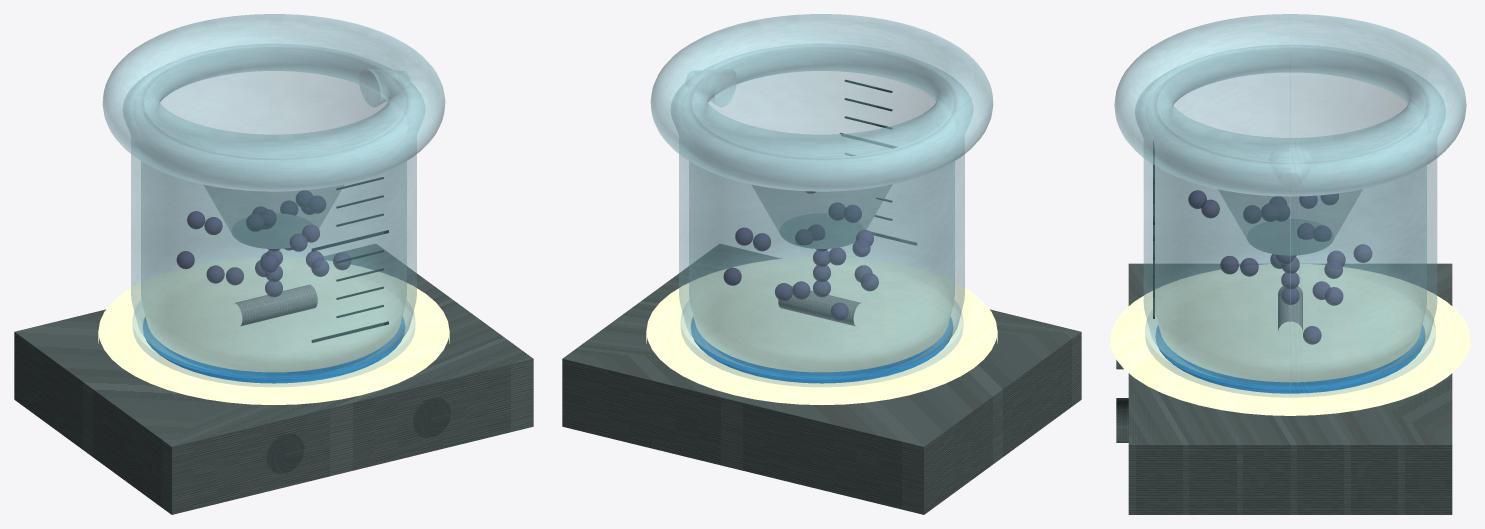
The model's file is alat-20.glb.
3 renders of one model, left to right at view 1: azimuth 30°, elevation 25°; view 2: azimuth 150°, elevation 25°; view 3: azimuth 270°, elevation 25°, orthographic. The views are drawn at different scales.
Parts seen in each view (by area): view 1: beaker-4, box-0, torus-6, hotplateGlow-1, vortexCore-46, cylinder-5, liquidSurface-18, stirbar-19, cone-7, cylinder-2, cylinder-3; view 2: beaker-4, box-0, torus-6, hotplateGlow-1, vortexCore-46, cylinder-5, liquidSurface-18, stirbar-19, cone-7; view 3: beaker-4, torus-6, box-0, hotplateGlow-1, vortexCore-46, cylinder-5, liquidSurface-18, cone-7, stirbar-19, cylinder-3.
Boxes of the visible parts, x1,y1,x2,y2 form: beaker-4: [123, 44, 424, 376]; box-0: [14, 244, 533, 514]; torus-6: [102, 14, 445, 191]; hotplateGlow-1: [98, 257, 449, 404]; vortexCore-46: [204, 185, 343, 248]; cylinder-5: [133, 301, 414, 386]; liquidSurface-18: [143, 318, 404, 383]; stirbar-19: [235, 284, 317, 325]; cone-7: [359, 69, 409, 107]; cylinder-2: [266, 432, 304, 473]; cylinder-3: [413, 397, 450, 437]; beaker-4: [671, 44, 972, 376]; box-0: [562, 244, 1081, 514]; torus-6: [650, 14, 993, 191]; hotplateGlow-1: [646, 257, 997, 404]; vortexCore-46: [752, 185, 891, 248]; cylinder-5: [681, 301, 962, 386]; liquidSurface-18: [691, 318, 952, 383]; stirbar-19: [778, 286, 860, 325]; cone-7: [686, 69, 736, 107]; beaker-4: [1135, 44, 1445, 386]; torus-6: [1114, 14, 1466, 196]; box-0: [1128, 263, 1452, 514]; hotplateGlow-1: [1110, 264, 1470, 415]; vortexCore-46: [1218, 189, 1362, 255]; cylinder-5: [1145, 309, 1435, 397]; liquidSurface-18: [1156, 326, 1424, 393]; cone-7: [1269, 145, 1311, 187]; stirbar-19: [1278, 286, 1302, 330]; cylinder-3: [1116, 398, 1128, 442].
Bounding box in the file's own units: 3.45 × 3.07 × 2.9.
Materials: 47 (47 with a texture image).
